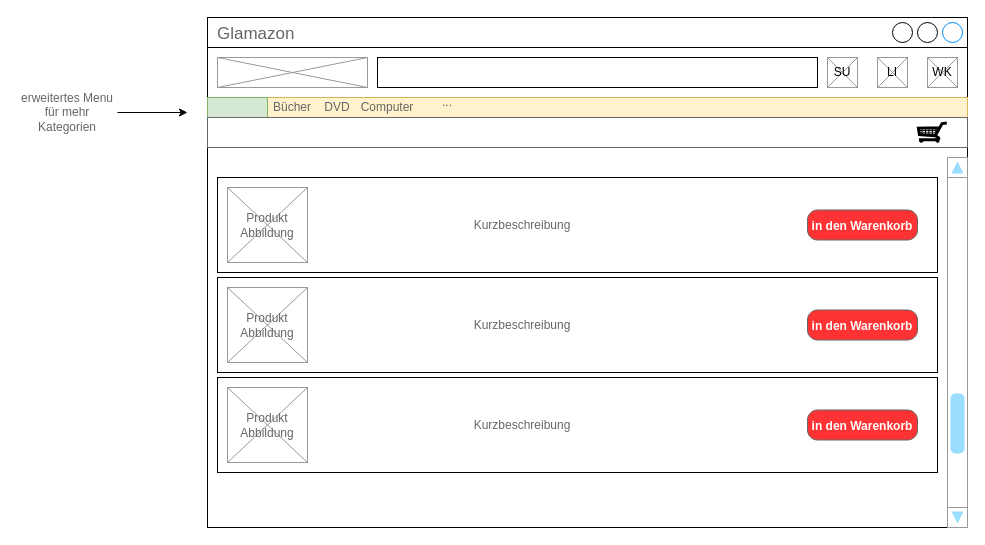
Image size: 985x545. Some labels were removed from this diagram. The shapes that lost their labels are listed below. From the top down, each one's box as (x1, y1, x2, y2) in pixels, then its label:
(216, 56, 368, 88): Logo
(376, 56, 818, 88): Suchleiste (dynamisch über Suchbutton)
(206, 96, 268, 118): OOO
(206, 116, 968, 148): Suchergebnisse für .....
